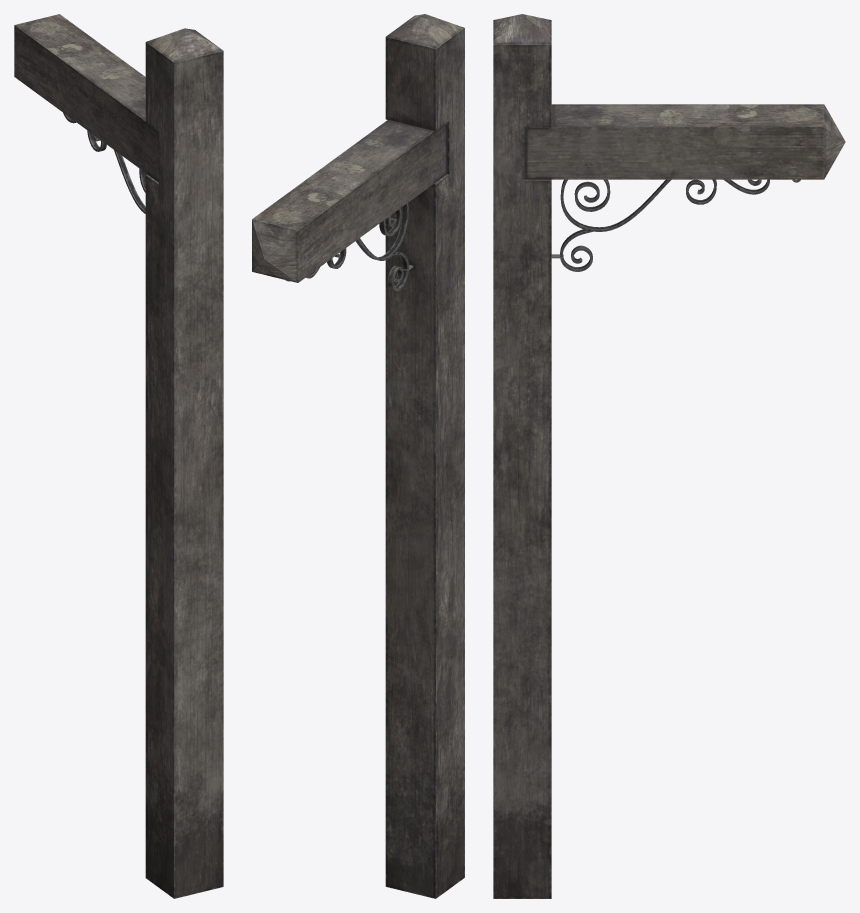
Rendered from SM_LampPole.fbx.
3 renders of one model, left to right at view 1: azimuth 30°, elevation 25°; view 2: azimuth 150°, elevation 25°; view 3: azimuth 270°, elevation 25°, orthographic. The views are drawn at different scales.
Parts seen in each view (by area): view 1: SM_LampPole_LOD0; view 2: SM_LampPole_LOD0; view 3: SM_LampPole_LOD0.
Part boxes in pixels (box(x1,y1,x2,y2)): SM_LampPole_LOD0: box(14, 14, 223, 898); SM_LampPole_LOD0: box(252, 14, 464, 898); SM_LampPole_LOD0: box(493, 14, 845, 898).
Bounding box in the file's own units: 12.13 × 73.29 × 200.
Materials: 1 (1 with a texture image).
